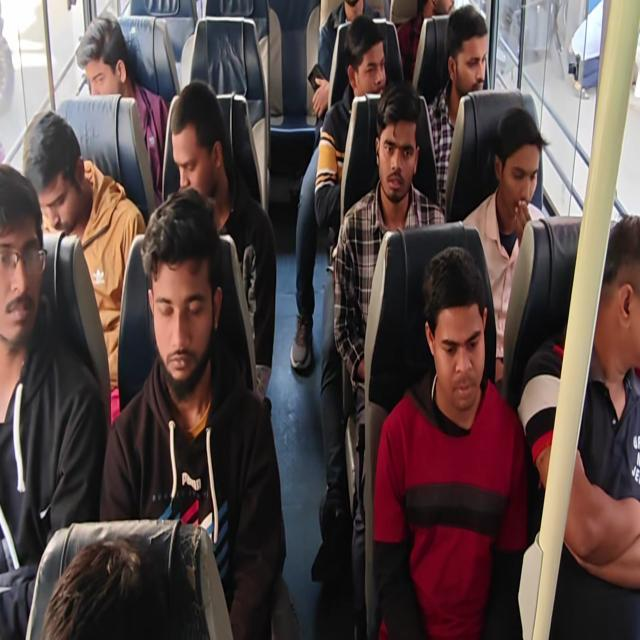person: (2, 1, 638, 638), (99, 186, 290, 638), (332, 80, 446, 635), (372, 245, 529, 638), (517, 212, 639, 638), (0, 162, 107, 638), (22, 109, 147, 425), (290, 14, 387, 371), (170, 80, 277, 402), (461, 106, 549, 384), (76, 14, 169, 204), (314, 15, 387, 249), (41, 533, 170, 639), (427, 4, 489, 214), (308, 0, 386, 123), (396, 0, 455, 84)
